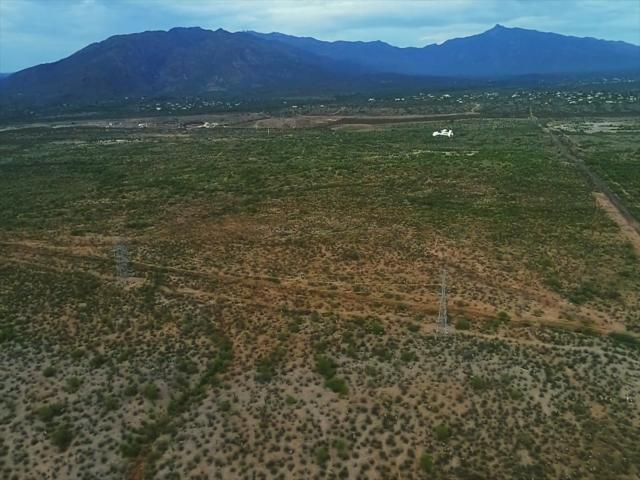plane: (431, 126, 455, 140)
